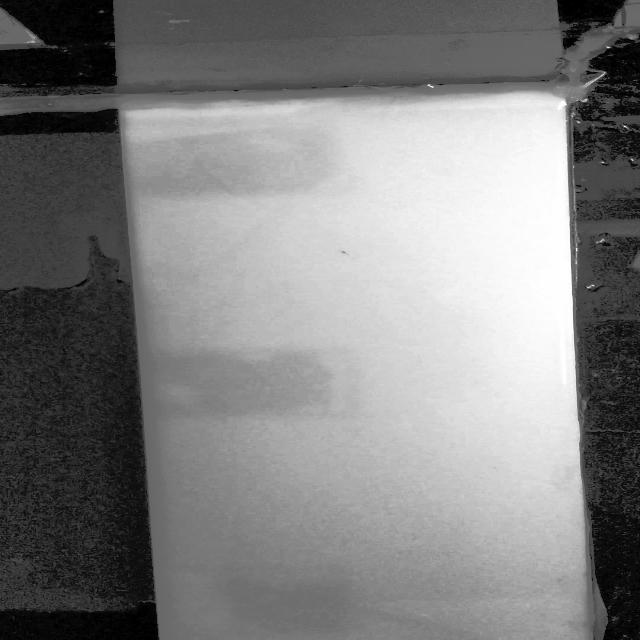shrimp: (333, 243, 356, 259)
